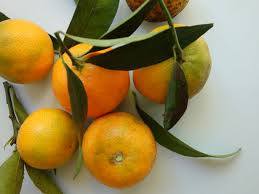orange: (133, 27, 213, 103), (79, 112, 162, 183), (51, 43, 129, 113), (11, 102, 78, 169), (1, 17, 54, 87)
